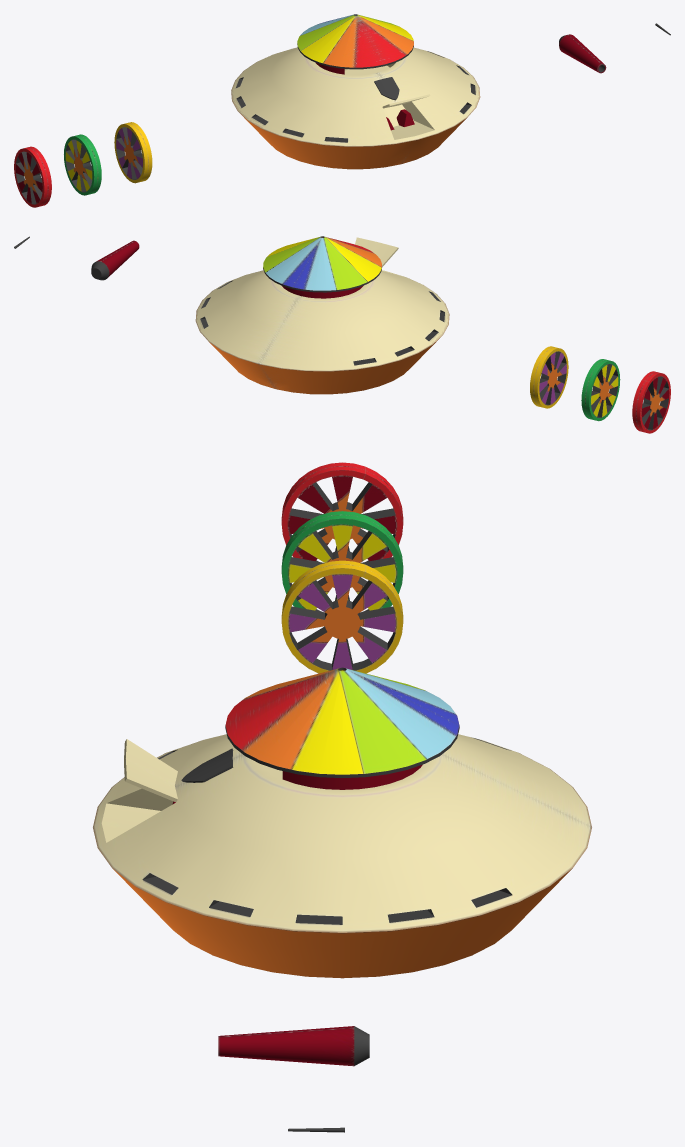
Rendered from Tank.fbx.
3 views of the same model, one above another, from view 1: azimuth 30°, elevation 25°; view 2: azimuth 150°, elevation 25°; view 3: azimuth 270°, elevation 25° (orthographic). The views are drawn at different scales.
Visible parts, largest first — view 1: Hull, Wheel.002, Wheel.001, Wheel, Cannon; view 2: Hull, Wheel.002, Wheel, Wheel.001, Cannon; view 3: Hull, Wheel.002, Wheel.001, Wheel, Cannon.
Part boxes in pixels (bbox=[...]): Hull: bbox=[231, 14, 480, 169]; Wheel.002: bbox=[114, 122, 152, 183]; Wheel.001: bbox=[64, 134, 101, 195]; Wheel: bbox=[14, 146, 51, 207]; Cannon: bbox=[559, 34, 606, 73]; Hull: bbox=[195, 236, 449, 394]; Wheel.002: bbox=[530, 346, 568, 408]; Wheel: bbox=[632, 371, 670, 433]; Wheel.001: bbox=[581, 359, 620, 421]; Cannon: bbox=[91, 240, 139, 280]; Hull: bbox=[93, 667, 591, 978]; Wheel.002: bbox=[281, 560, 403, 673]; Wheel.001: bbox=[281, 511, 403, 611]; Wheel: bbox=[281, 462, 403, 561]; Cannon: bbox=[218, 1026, 369, 1066].
Size of the model in its own units: 1461 by 257 by 503.
